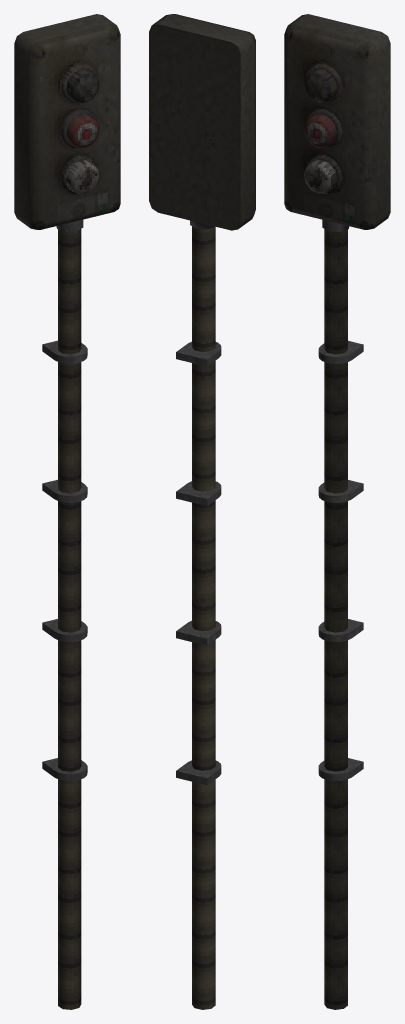
File: button_12.glb
3 renders of one model, left to right at view 1: azimuth 30°, elevation 25°; view 2: azimuth 150°, elevation 25°; view 3: azimuth 330°, elevation 25°, orthographic.
Visible parts, largest first — view 1: button_12; view 2: button_12; view 3: button_12.
Part boxes in pixels (left/top/right/bottom): button_12: left=14, top=14, right=120, bottom=1009; button_12: left=149, top=14, right=255, bottom=1009; button_12: left=284, top=14, right=390, bottom=1009.
Size of the model in its own units: 0.11 by 1.12 by 0.063.
3 materials, 3 textured.
